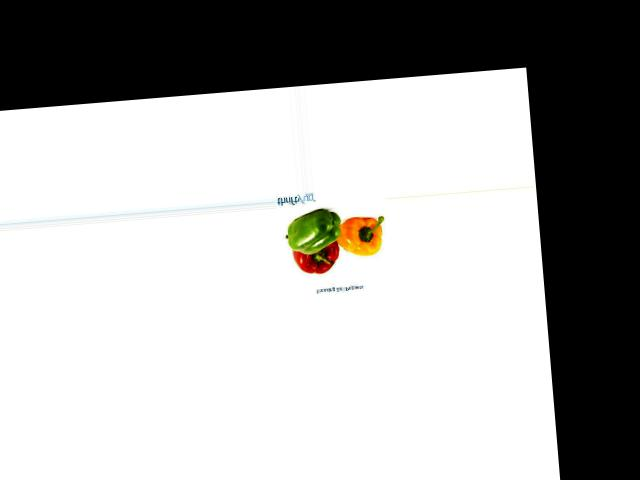bell_pepper: (282, 202, 347, 255)
